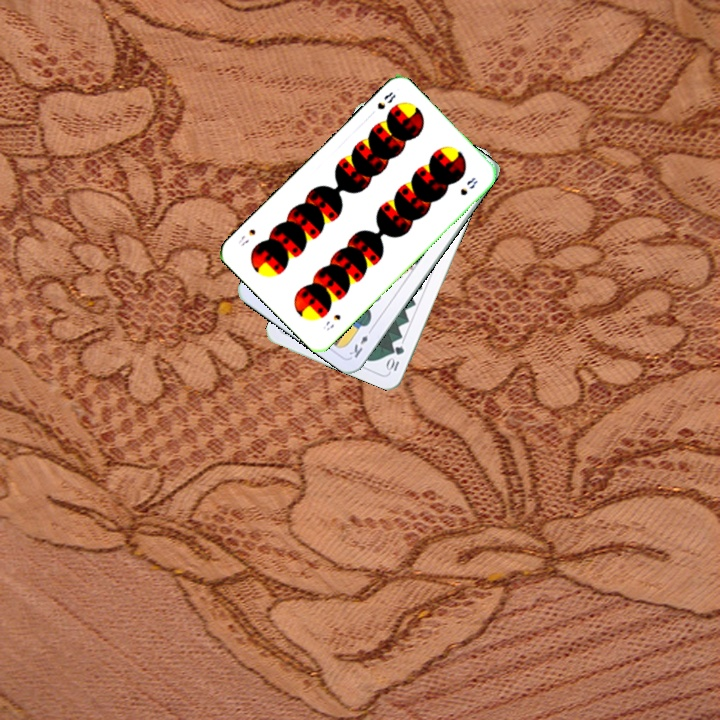EK: (345, 324, 376, 360)
G10: (383, 342, 407, 374)
S8: (373, 88, 398, 112), (319, 310, 343, 333)
